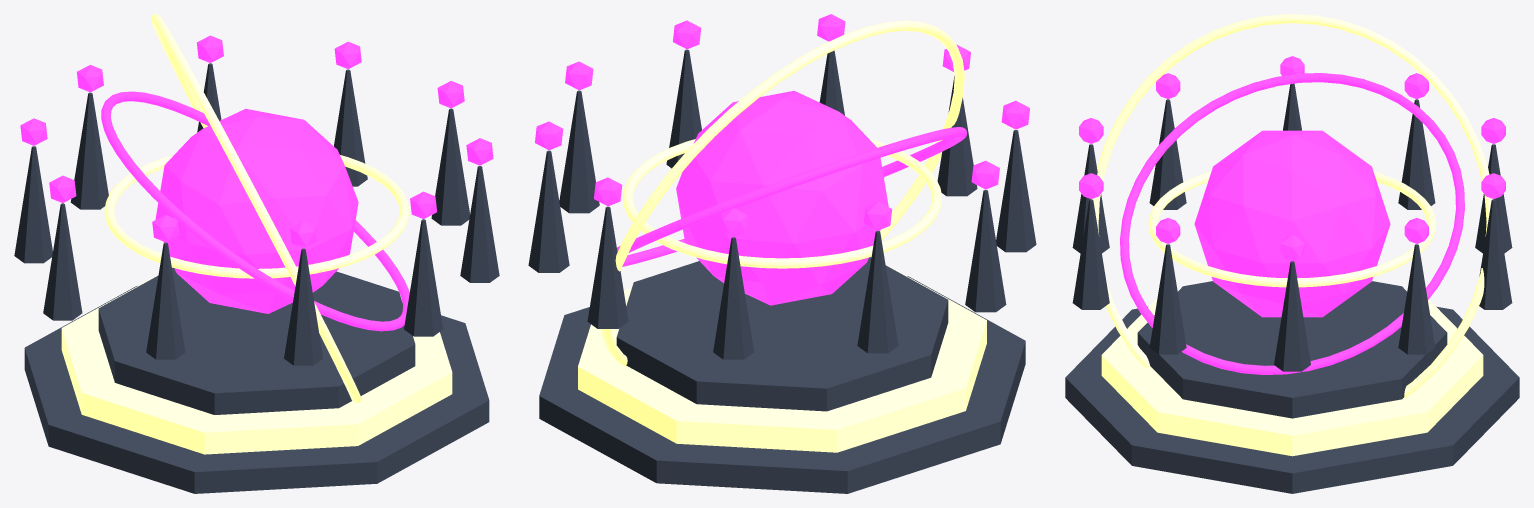
File: gpu-blender-v29.glb
3 renders of one model, left to right at view 1: azimuth 30°, elevation 25°; view 2: azimuth 150°, elevation 25°; view 3: azimuth 270°, elevation 25°, orthographic. The views are drawn at different scales.
Parts seen in each view (by area): view 1: Cylinder.002, SovereignCore_etsy-pod-forge, Cylinder, Cylinder.001, Torus.001, Torus, Torus.002, Cone.004, Cone.005, Cone.008, Cone.006, Cone.007 (+15 smaller); view 2: Cylinder.002, SovereignCore_etsy-pod-forge, Cylinder, Cylinder.001, Torus.002, Torus, Torus.001, Cone.004, Cone.005, Cone.006, Cone.003, Cone.001 (+14 smaller); view 3: SovereignCore_etsy-pod-forge, Cylinder.002, Cylinder, Cylinder.001, Torus.001, Torus.002, Torus, Cone.001, Cone.009, Cone, Cone.008, Cone.002 (+14 smaller).
Part boxes in pixels (x1,y1,x2,y2): Cylinder.002: (98,267,415,414); SovereignCore_etsy-pod-forge: (155,108,358,313); Cylinder: (24,286,489,493); Cylinder.001: (61,276,452,454); Torus.001: (101,91,409,331); Torus: (104,155,409,278); Torus.002: (150,14,361,403); Cone.004: (14,146,52,263); Cone.005: (43,203,82,320); Cone.008: (404,219,443,336); Cone.006: (146,242,185,359); Cone.007: (284,248,323,365); Cylinder.002: (616,257,948,411); SovereignCore_etsy-pod-forge: (676,90,888,305); Cylinder: (539,276,1025,493); Cylinder.001: (578,266,986,452); Torus.002: (601,20,964,366); Torus: (623,139,941,268); Torus.001: (617,127,966,266); Cone.004: (857,231,898,353); Cone.005: (965,190,1006,312); Cone.006: (996,130,1036,252); Cone.003: (713,237,754,359); Cone.001: (528,150,569,272); SovereignCore_etsy-pod-forge: (1194,130,1390,317); Cylinder.002: (1137,281,1447,418); Cylinder: (1065,306,1519,493); Cylinder.001: (1101,298,1483,456); Torus.001: (1120,73,1464,374); Torus.002: (1092,14,1492,398); Torus: (1148,171,1436,287); Cone.001: (1398,244,1435,354); Cone.009: (1149,244,1186,354); Cone: (1274,261,1310,371); Cone.008: (1072,199,1109,309); Cone.002: (1479,199,1512,309).
Size of the model in its own units: 4.41 by 3.72 by 4.4.
